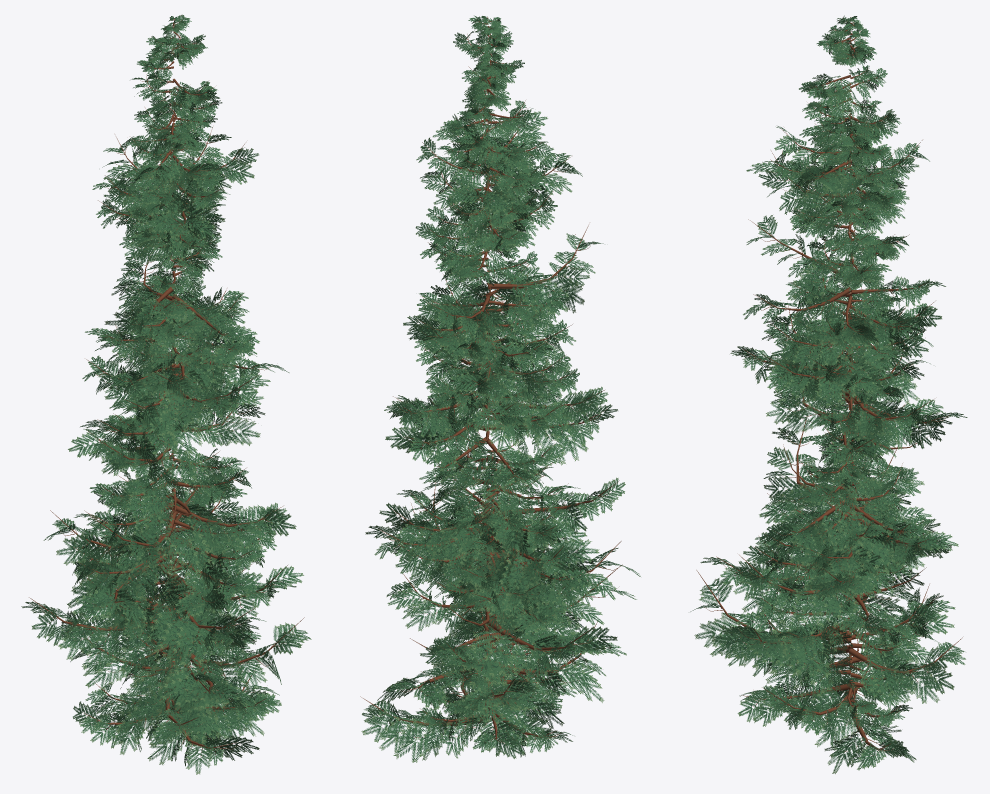
Rendered from forest-giant-lod1.glb.
3 views of the same model, side by side, from view 1: azimuth 30°, elevation 25°; view 2: azimuth 150°, elevation 25°; view 3: azimuth 270°, elevation 25° (orthographic). The views are drawn at different scales.
Parts seen in each view (by area): view 1: redwood-crown; view 2: redwood-crown; view 3: redwood-crown.
Boxes of the visible parts, x1=… form: redwood-crown: x1=21, y1=14, x2=311, y2=774; redwood-crown: x1=360, y1=15, x2=640, y2=762; redwood-crown: x1=690, y1=15, x2=967, y2=773.
Bounding box in the file's own units: 22.4 × 62.21 × 22.64.
Materials: 4 (3 with a texture image).
